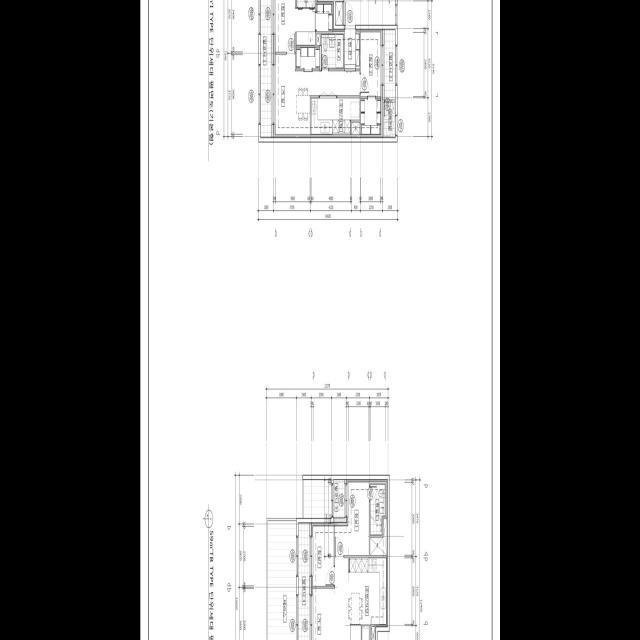background: (140, 0, 500, 640)
space_balconi: (260, 0, 271, 138), (298, 523, 309, 640), (384, 30, 395, 100), (333, 480, 344, 518)
space_bedroom: (335, 480, 369, 555), (360, 30, 382, 97), (311, 523, 334, 586), (273, 0, 295, 52)
space_dressroom: (360, 99, 382, 138), (295, 8, 315, 45), (316, 2, 333, 31)
space_elevator_hall: (344, 0, 395, 25)
space_front: (344, 30, 359, 69)
space_kitchen: (348, 558, 387, 640), (311, 98, 359, 138)
space_living_room: (273, 54, 359, 138), (311, 558, 348, 640)
space_other: (370, 519, 387, 555), (296, 48, 319, 69), (335, 2, 342, 25), (352, 122, 359, 138), (371, 627, 375, 640), (316, 34, 320, 45)
space_outdoor_room: (383, 102, 395, 138)
space_toilet: (321, 34, 343, 69), (370, 484, 385, 535), (296, 0, 305, 8), (306, 0, 315, 8)
